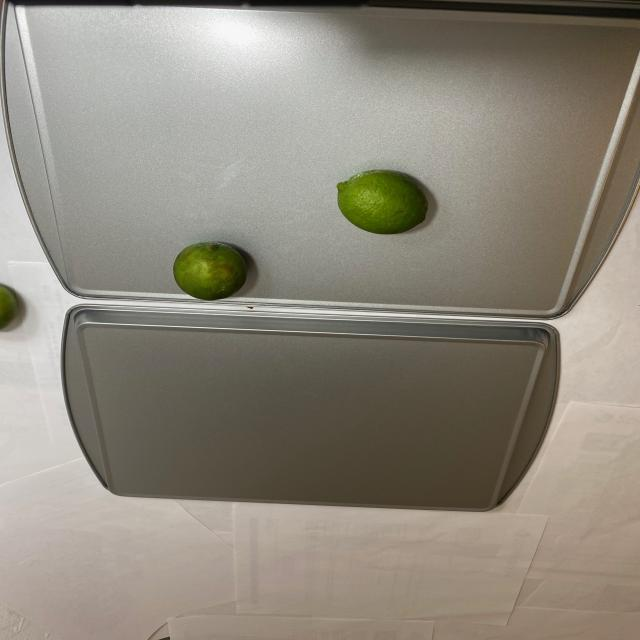lemon: (330, 167, 430, 239), (166, 239, 254, 300)
